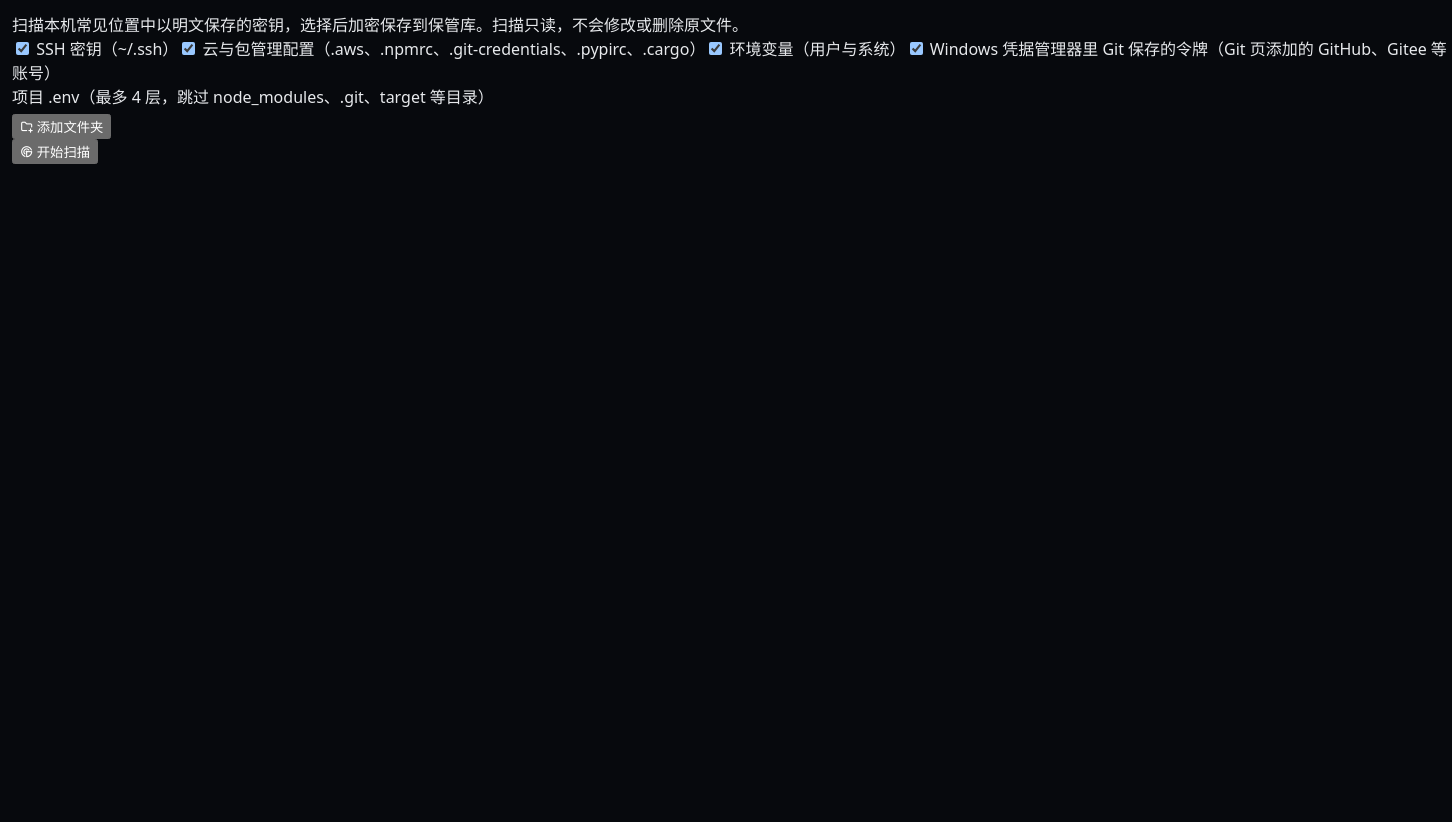
Test: DiscoverPanel project folders › toasts when the folder dialog fails
This screenshot has width=1452, height=822.
Click the button "添加文件夹".
click(62, 126)  # box [12,114,111,139]
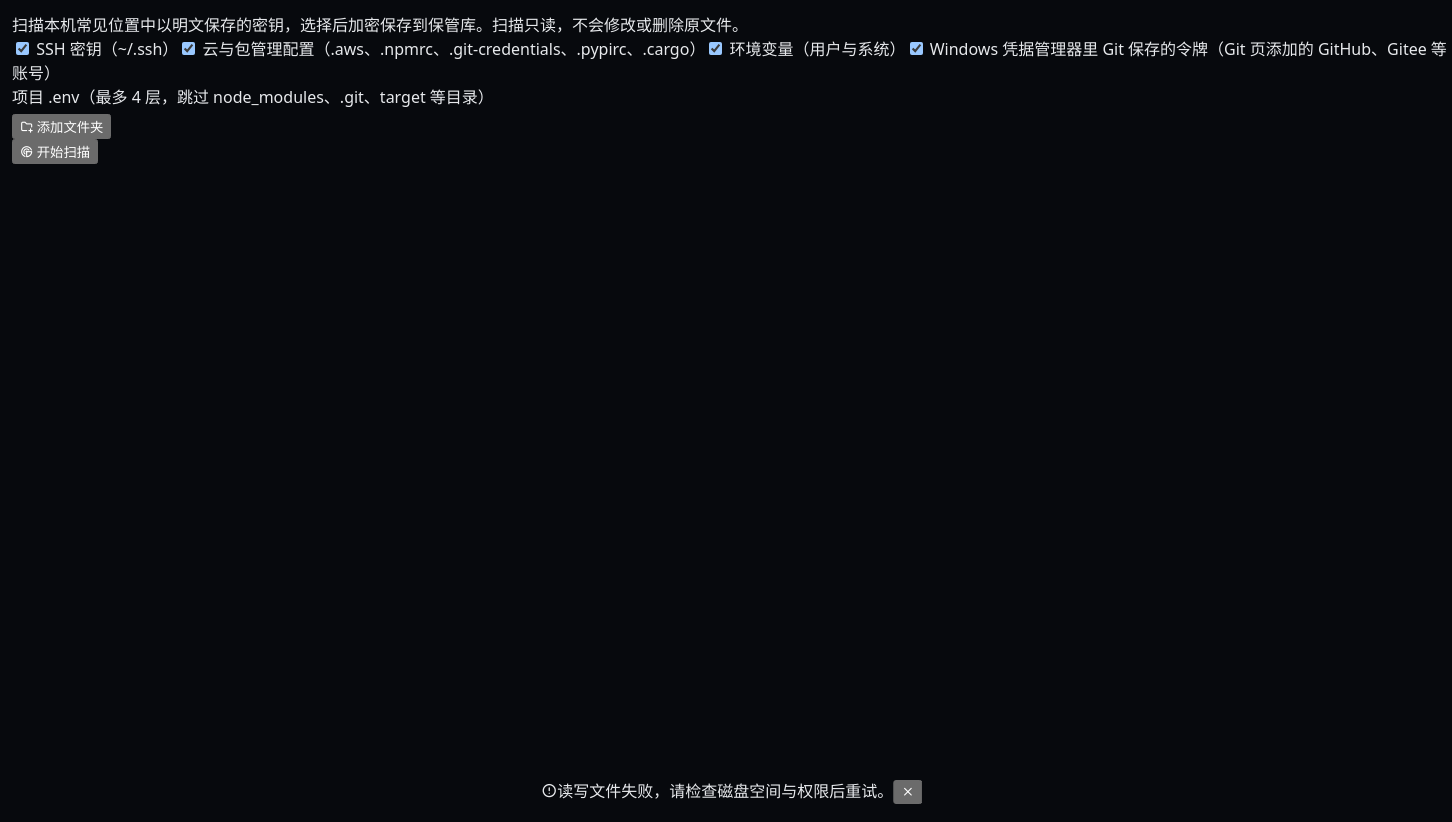
Expected: the text "读写文件失败" is shown, [557,780,893,802]
